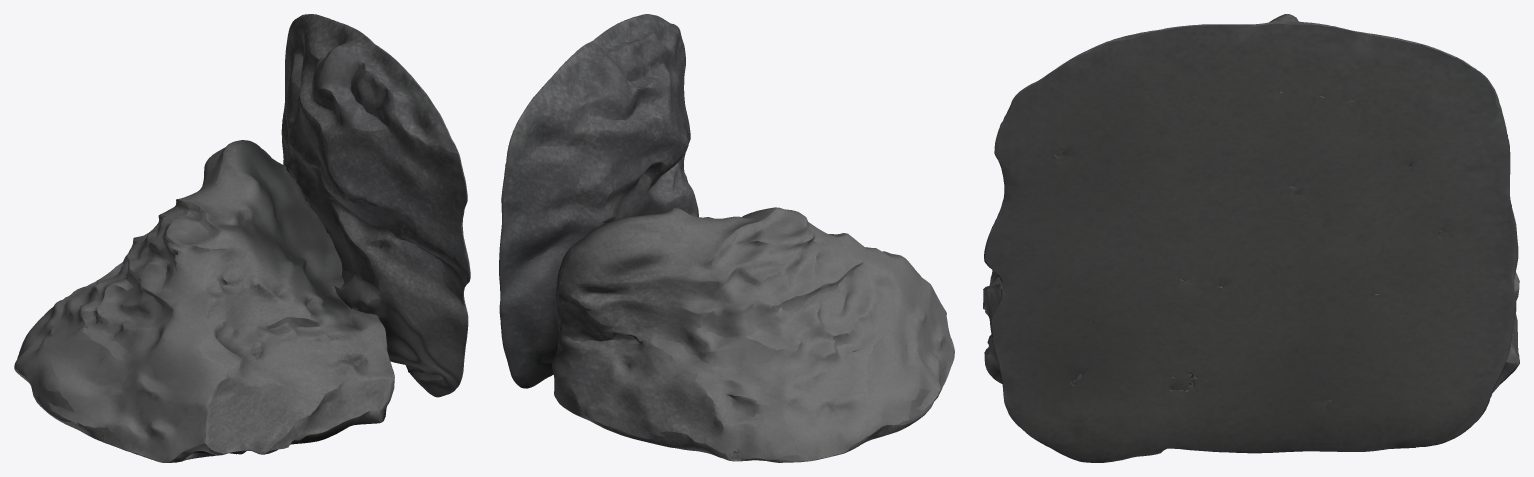
3 renders of one model, left to right at view 1: azimuth 30°, elevation 25°; view 2: azimuth 150°, elevation 25°; view 3: azimuth 270°, elevation 25°, orthographic. The views are drawn at different scales.
Visible parts, largest first — view 1: world; view 2: world; view 3: world.
Part boxes in pixels (x1,y1,x2,y2): world: [14, 14, 470, 462]; world: [499, 14, 954, 462]; world: [983, 14, 1519, 462].
Bounding box in the file's own units: 0.8 × 0.7319 × 0.8014.
1 material, 1 textured.
